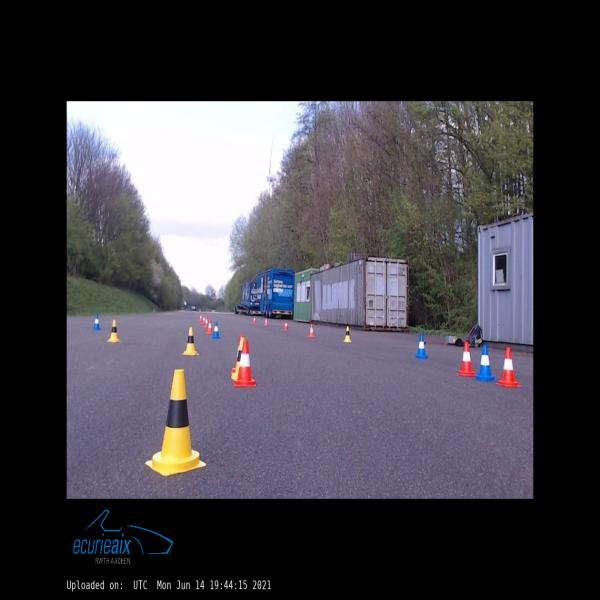blue_cone: (475, 345, 496, 381), (415, 332, 428, 358), (212, 322, 220, 338), (93, 314, 100, 330)
orange_cone: (496, 347, 522, 387), (234, 340, 256, 387), (458, 342, 476, 376), (232, 335, 244, 373), (308, 323, 315, 337), (207, 319, 213, 334), (284, 320, 289, 330), (204, 317, 208, 326), (264, 318, 268, 326), (202, 316, 206, 323), (199, 314, 202, 321), (253, 316, 256, 322)
yellow_cone: (146, 370, 205, 476), (182, 326, 199, 356), (232, 338, 244, 380), (107, 320, 120, 341), (343, 326, 352, 342)
